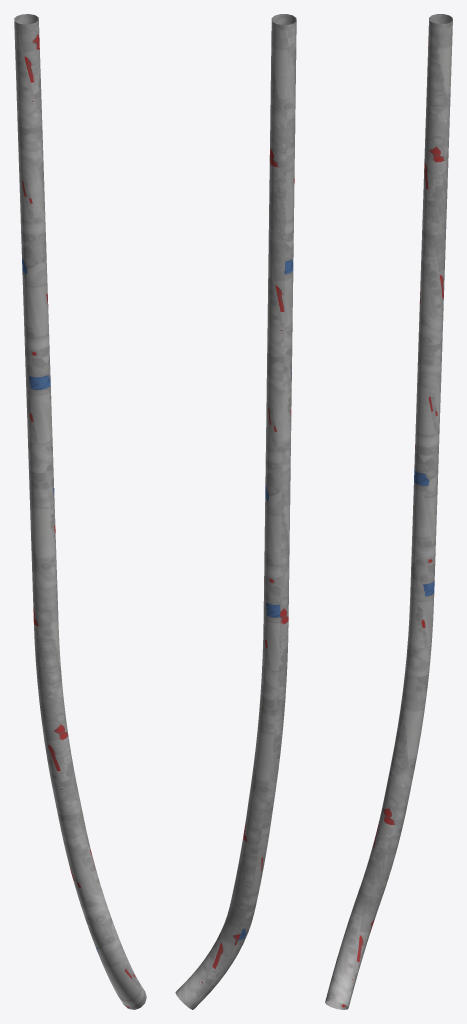
File: Pipe__22.fbx
3 views of the same model, side by side, from view 1: azimuth 90°, elevation 25°; view 2: azimuth 210°, elevation 25°; view 3: azimuth 270°, elevation 25° (orthographic). The views are drawn at different scales.
Visible parts, largest first — view 1: MAT_Pipe_01; view 2: MAT_Pipe_01; view 3: MAT_Pipe_01.
Part boxes in pixels (x1,y1,x2,y2): MAT_Pipe_01: (14, 14, 146, 1009); MAT_Pipe_01: (175, 14, 296, 1009); MAT_Pipe_01: (325, 14, 452, 1009).
Bounding box in the file's own units: 1.19 × 17.58 × 2.1.
1 material, 1 textured.
